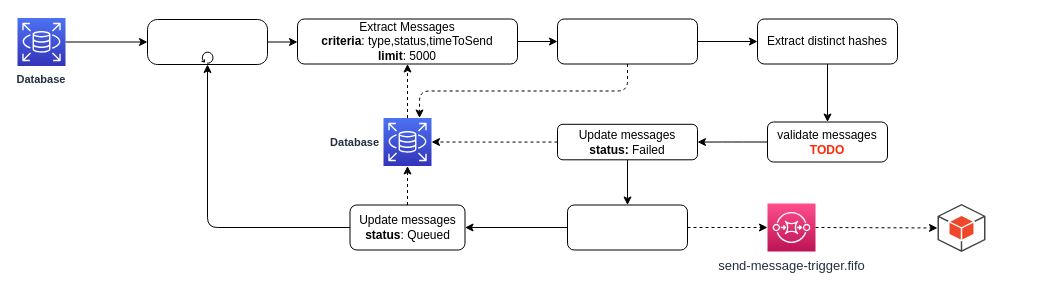
Some shapes in this 1038 by 291 pixel diagram are drawn without their labels. Here are the shapes that lost their labels. From the top down, the centre of each, then its label:
At point 207,41: "every minute".
At point 627,41: "Update messages status : Processing".
At point 627,227: "Put Hash into queue".
At point 961,227: "SendMessage Worker".
